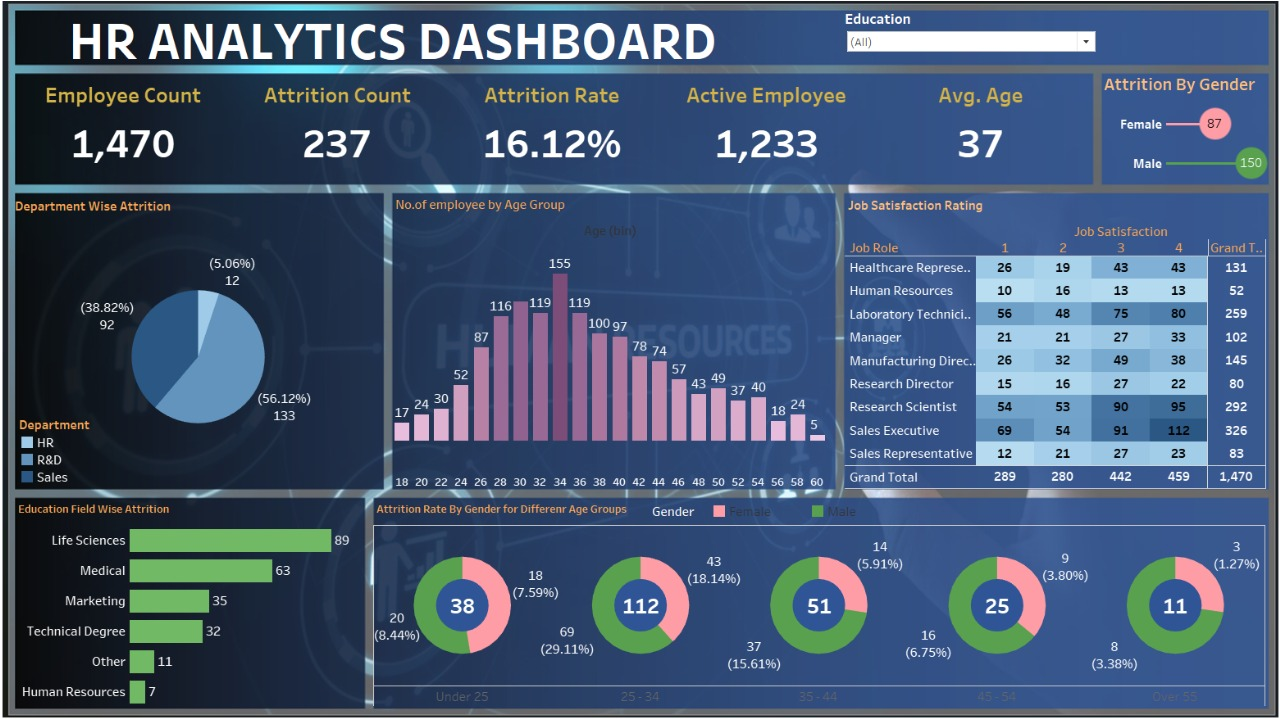

Layout of this report page (visuals, bound fields, positions):
{"tool":"tableau","page":{"name":"HR ANALYTICS DASHBOARD","canvas":[1580,900],"ordinal":0},"visuals":[{"type":"image","param":"Image/Screenshot 2025-09-20 203338.png","box":[8,8,1564,884]},{"type":"filter","title":"No.of employee by Age Group","param":"[federated.0z1ynh009laavl14he5gn1wj1g79].[none:Education:nk]","box":[1039,22,309,60]},{"type":"text","box":[26,26,924,65]},{"type":"worksheet","title":"Attrition By Gender","mark":"Automatic","rows":["Gender"],"cols":["Calculation_2138083978579132416","Calculation_2138083978579132416"],"box":[1351,95,209,139]},{"type":"worksheet","title":"KPI","mark":"Automatic","box":[28,103,1308,122]},{"type":"worksheet","title":"No.of employee by Age Group","mark":"Automatic","rows":["Employee Count"],"cols":["Age (bin)"],"box":[487,246,531,363]},{"type":"worksheet","title":"Job Satisfaction Rating","mark":"Square","rows":["Job Role"],"cols":["Job Satisfaction"],"box":[1039,247,515,361]},{"type":"worksheet","title":"Department Wise Attrition","mark":"Pie","box":[23,248,455,361]},{"type":"legend","title":"Department Wise Attrition","param":"[federated.0z1ynh009laavl14he5gn1wj1g79].[none:Department:nk]","box":[32,519,140,85]},{"type":"worksheet","title":"Education Field Wise Attrition","mark":"Automatic","rows":["Education Field"],"cols":["Calculation_2138083978579132416"],"box":[27,619,425,255]},{"type":"worksheet","title":"Attrition Rate By Gender for Differenr Age Groups","mark":"Pie","rows":["Calculation_2138083978859069445","Calculation_2138083978859069445"],"cols":["CF_age band"],"box":[464,619,1088,255]},{"type":"legend","title":"Attrition Rate By Gender for Differenr Age Groups","param":"[federated.0z1ynh009laavl14he5gn1wj1g79].[none:Gender:nk]","box":[804,625,602,31]}]}

Visuals, with their boxes in screenshot pixels (x1, y1, x2, y2), scaled from the page's 1580x900 canvas onto the 1280x719 screenshot:
image: box(6, 6, 1274, 713)
"No.of employee by Age Group" filter: box(842, 18, 1092, 66)
text: box(21, 21, 770, 73)
"Attrition By Gender" worksheet: box(1094, 76, 1264, 187)
"KPI" worksheet: box(23, 82, 1082, 180)
"No.of employee by Age Group" worksheet: box(395, 197, 825, 487)
"Job Satisfaction Rating" worksheet (Square marks): box(842, 197, 1259, 486)
"Department Wise Attrition" worksheet (Pie marks): box(19, 198, 387, 487)
"Department Wise Attrition" legend: box(26, 415, 139, 483)
"Education Field Wise Attrition" worksheet: box(22, 495, 366, 698)
"Attrition Rate By Gender for Differenr Age Groups" worksheet (Pie marks): box(376, 495, 1257, 698)
"Attrition Rate By Gender for Differenr Age Groups" legend: box(651, 499, 1139, 524)
